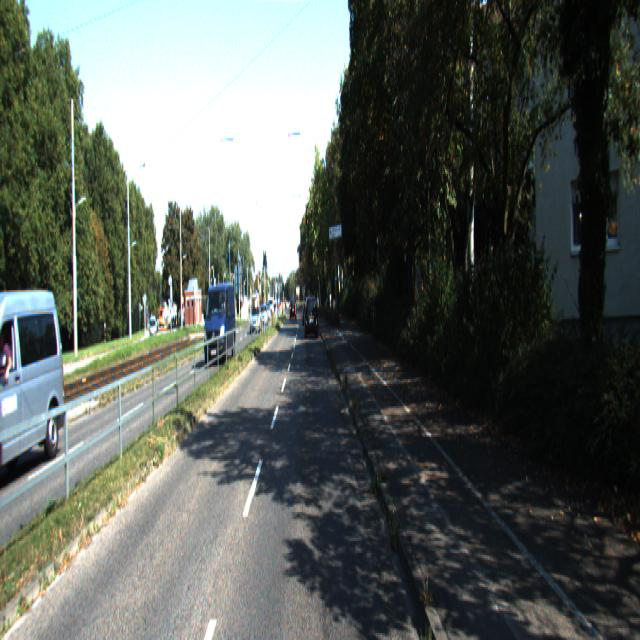Car: (305, 296, 319, 340)
DontCare: (246, 286, 276, 340), (148, 308, 182, 334), (285, 290, 299, 325)
Van: (0, 288, 68, 496), (204, 279, 236, 366)
